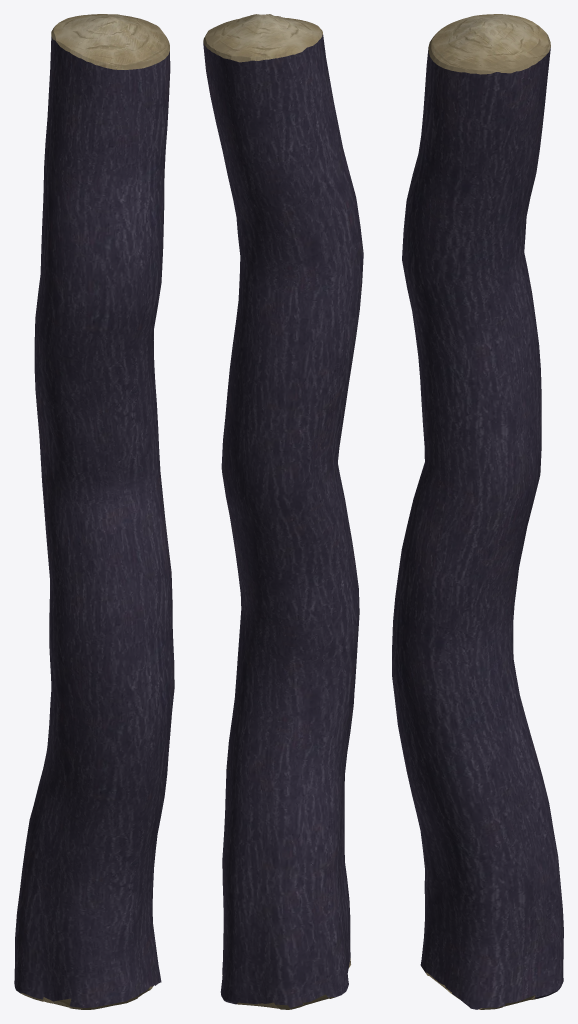
3 views of the same model, side by side, from view 1: azimuth 30°, elevation 25°; view 2: azimuth 150°, elevation 25°; view 3: azimuth 270°, elevation 25° (orthographic).
Visible parts, largest first — view 1: SM_GF_Oak_Tree_02_tree_quarters_bottom_LOD0; view 2: SM_GF_Oak_Tree_02_tree_quarters_bottom_LOD0; view 3: SM_GF_Oak_Tree_02_tree_quarters_bottom_LOD0.
Boxes of the visible parts, x1,y1,x2,y2 form: SM_GF_Oak_Tree_02_tree_quarters_bottom_LOD0: [14, 14, 174, 1009]; SM_GF_Oak_Tree_02_tree_quarters_bottom_LOD0: [203, 14, 363, 1009]; SM_GF_Oak_Tree_02_tree_quarters_bottom_LOD0: [392, 14, 563, 1009].
Bounding box in the file's own units: 1.19 × 8.11 × 1.29.
Materials: 1 (1 with a texture image).
